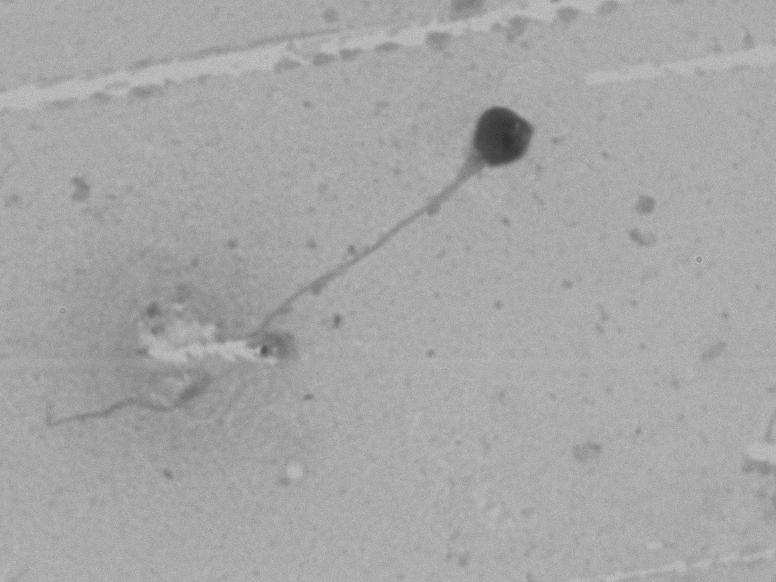Abnormal: (224, 91, 566, 409)
